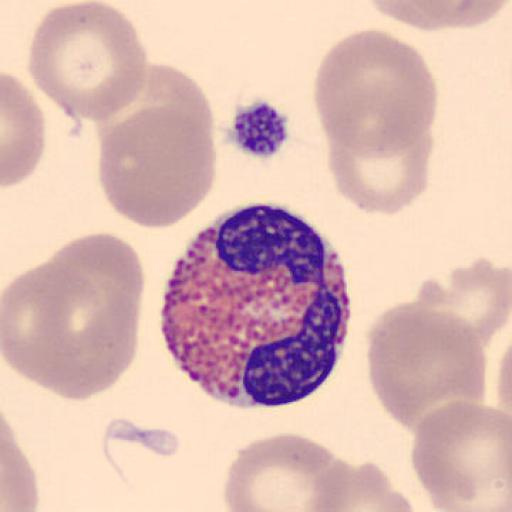Platelet: (226, 96, 292, 161)
RBC: (1, 262, 141, 400), (312, 27, 439, 161), (366, 302, 487, 434), (96, 103, 218, 231), (27, 0, 149, 123), (409, 399, 512, 511), (222, 432, 355, 512), (327, 117, 434, 216), (2, 261, 86, 382), (416, 255, 511, 354), (46, 230, 146, 324), (122, 61, 215, 153), (302, 460, 418, 512), (445, 256, 512, 341), (2, 72, 46, 189), (361, 0, 507, 32), (0, 420, 40, 512), (364, 0, 467, 32), (439, 0, 511, 30)
WBC: (159, 207, 352, 408)
